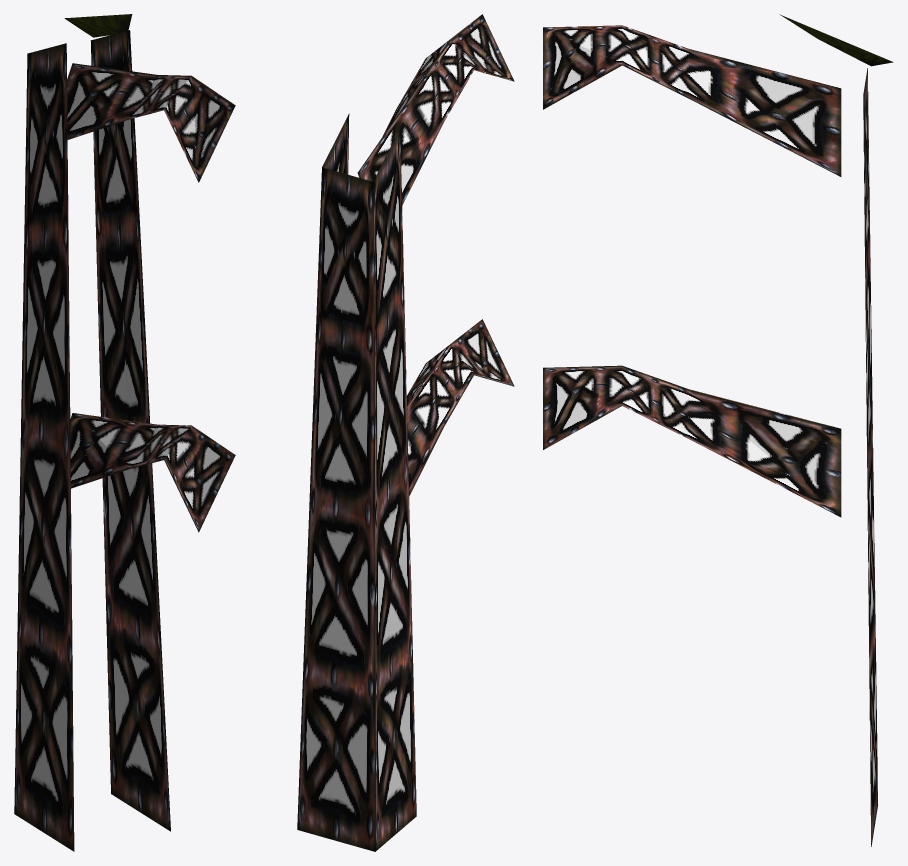
The model's file is Stütze_VerstrebtDoppelt_1819.glb.
The picture shows the model from 3 angles, left to right: view 1: azimuth 30°, elevation 25°; view 2: azimuth 150°, elevation 25°; view 3: azimuth 270°, elevation 25°; orthographic projection. The views are drawn at different scales.
Visible parts, largest first — view 1: pCylinderShape366, pCylinderShape392, pCylinderShape367, pCylinderShape403, pCylinderShape397; view 2: pCylinderShape391, pCylinderShape366, pCylinderShape367, pCylinderShape403, pCylinderShape392, pCylinderShape390, pCylinderShape404; view 3: pCylinderShape404, pCylinderShape390, pCylinderShape391, pCylinderShape397.
Part boxes in pixels (x1,y1,x2,y2): pCylinderShape366: [14, 43, 74, 851]; pCylinderShape392: [90, 30, 170, 831]; pCylinderShape367: [67, 63, 235, 182]; pCylinderShape403: [70, 413, 235, 532]; pCylinderShape397: [64, 14, 132, 37]; pCylinderShape391: [297, 167, 375, 851]; pCylinderShape366: [373, 128, 416, 851]; pCylinderShape367: [357, 14, 514, 204]; pCylinderShape403: [407, 319, 514, 495]; pCylinderShape392: [322, 113, 349, 174]; pCylinderShape390: [382, 18, 476, 136]; pCylinderShape404: [406, 326, 473, 406]; pCylinderShape404: [543, 365, 841, 517]; pCylinderShape390: [543, 25, 841, 176]; pCylinderShape391: [863, 68, 877, 846]; pCylinderShape397: [779, 14, 893, 66].
Bounding box in the file's own units: 0.1341 × 1.01 × 0.3994.
8 materials, 8 textured.
